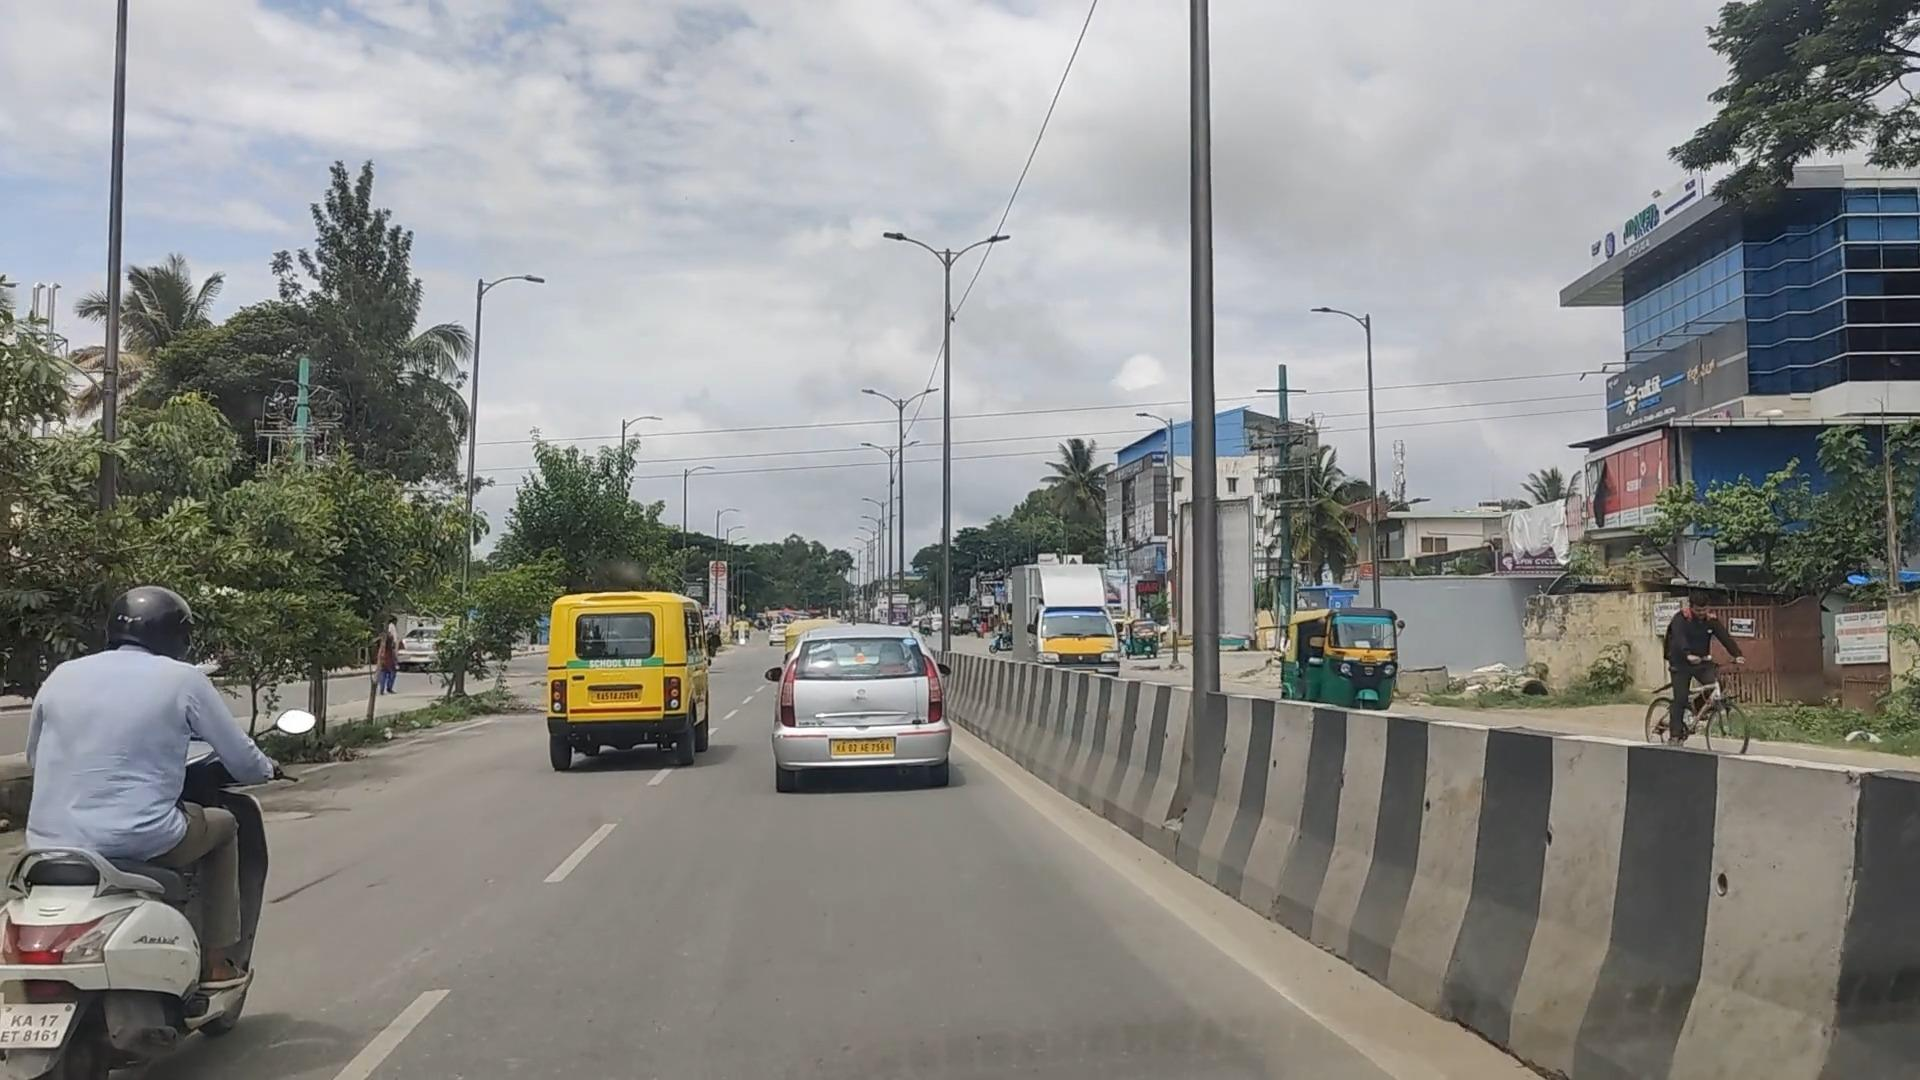LMV: (0, 549, 307, 1080), (514, 587, 720, 783), (753, 618, 965, 806)
